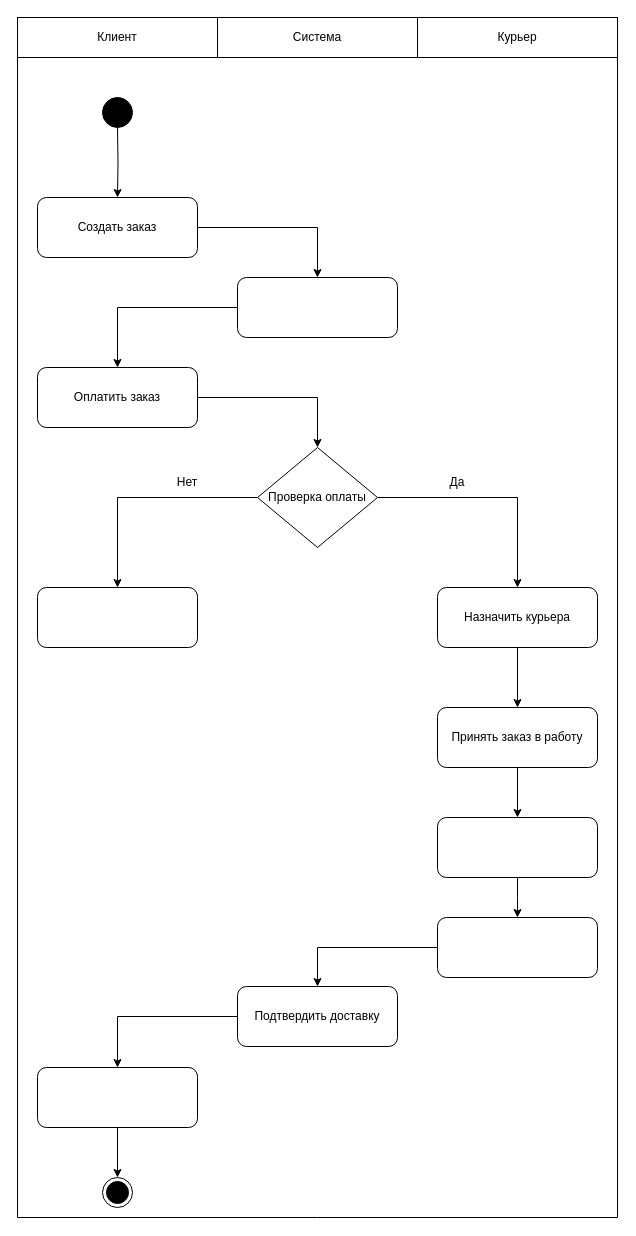
Image size: 636x1236. Some labels were removed from this diagram. Here are the shapes that lost their labels. From the top down, the centre of each, then its label:
At (x=317, y=307): "Принять заказ".
At (x=117, y=617): "Отмена заказа".
At (x=517, y=847): "Забрать товар".
At (x=517, y=947): "Доставить по адресу".
At (x=117, y=1097): "Получить уведомление".
